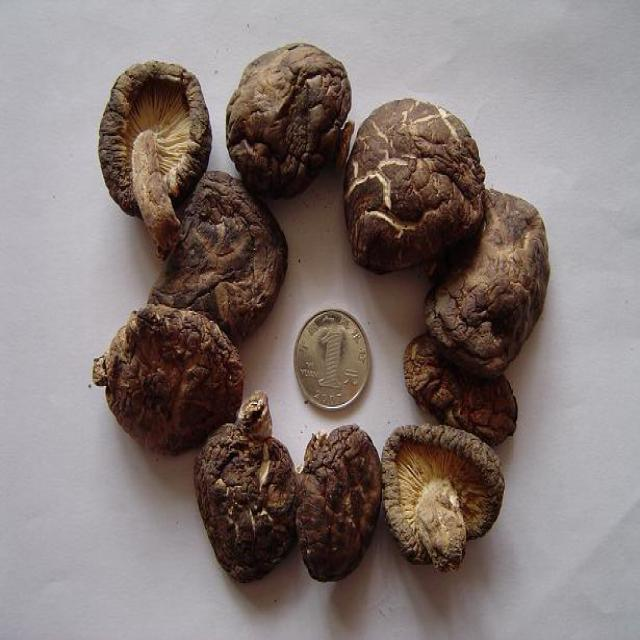Lentinus edodes: (342, 99, 489, 275), (143, 171, 293, 336), (93, 300, 244, 454), (426, 189, 551, 371), (99, 62, 212, 255), (194, 391, 296, 588), (224, 44, 356, 188), (382, 420, 504, 567), (295, 425, 381, 590), (404, 336, 522, 441)
